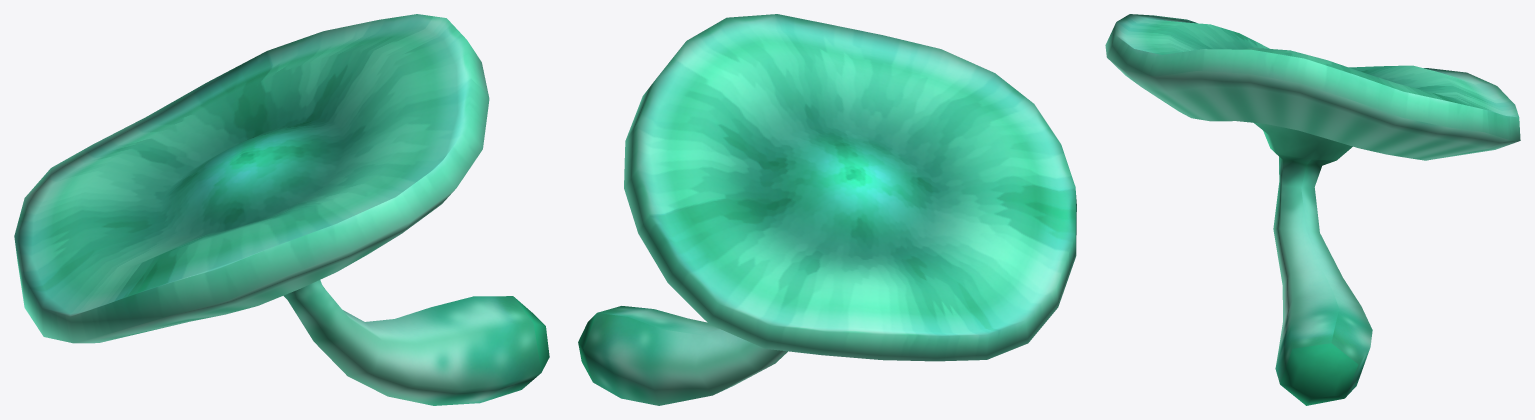
Rendered from MushC.fbx.
3 renders of one model, left to right at view 1: azimuth 30°, elevation 25°; view 2: azimuth 150°, elevation 25°; view 3: azimuth 270°, elevation 25°, orthographic. The views are drawn at different scales.
Parts seen in each view (by area): view 1: mushC; view 2: mushC; view 3: mushC.
Part boxes in pixels (box(x1,y1,x2,y2)): mushC: box(14, 14, 549, 405); mushC: box(578, 14, 1076, 405); mushC: box(1105, 14, 1520, 405).
Bounding box in the file's own units: 29.4 × 22.9 × 26.45.
